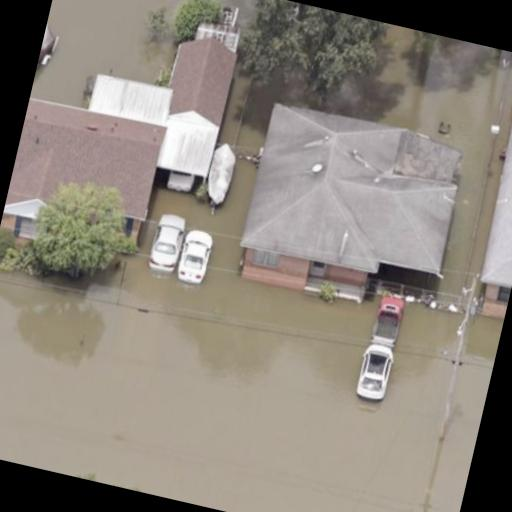flood: (0, 163, 503, 512), (318, 24, 504, 294), (30, 0, 182, 107), (466, 58, 512, 283), (239, 75, 316, 148), (220, 61, 249, 144)
house: (230, 90, 476, 318), (2, 92, 166, 252), (148, 18, 243, 192), (465, 80, 512, 318), (88, 66, 178, 132), (32, 16, 64, 92)
